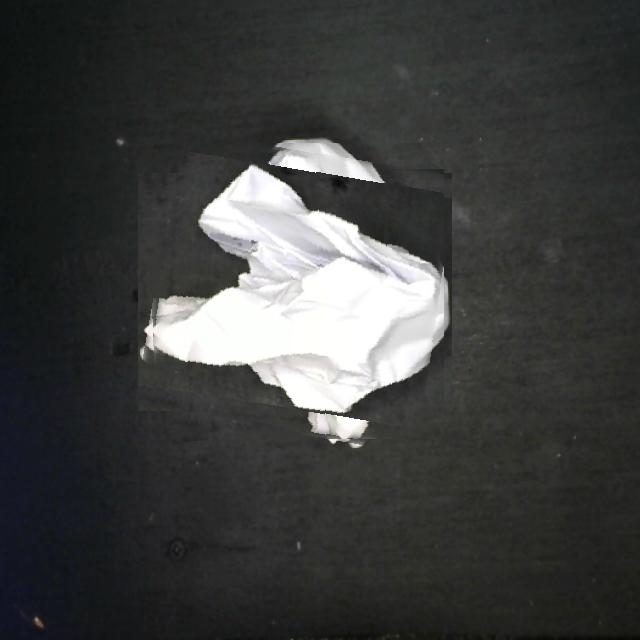biodegradable: (146, 143, 444, 442)
